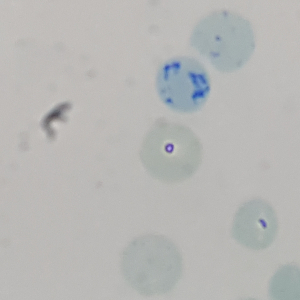aggregate reticulocyte: (154, 54, 214, 115)
erythrocyte: (137, 119, 206, 186), (229, 198, 280, 253)
punctate reticulocyte: (187, 8, 258, 73), (119, 232, 186, 298)
